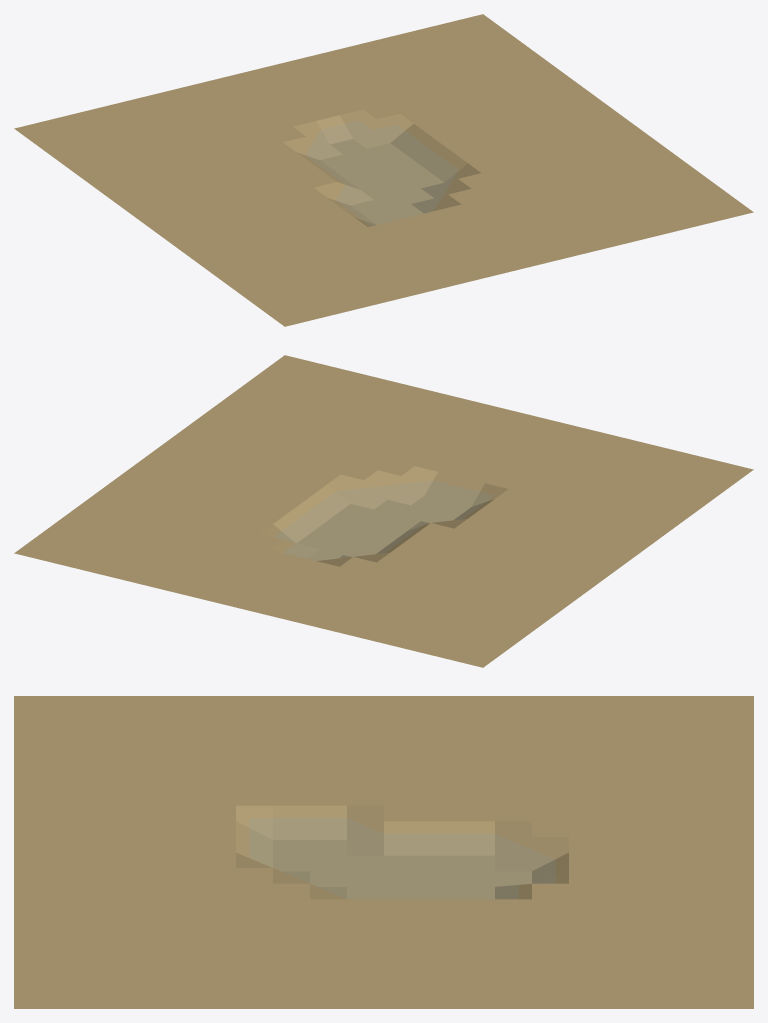
The model's file is Desert Oasis.fbx.
3 views of the same model, one above another, from view 1: azimuth 30°, elevation 25°; view 2: azimuth 150°, elevation 25°; view 3: azimuth 270°, elevation 25° (orthographic). The views are drawn at different scales.
Visible parts, largest first — view 1: DesertOasisSand; view 2: DesertOasisSand; view 3: DesertOasisSand.
Part boxes in pixels (x1=…): DesertOasisSand: x1=14, y1=14, x2=753, y2=326; DesertOasisSand: x1=14, y1=355, x2=753, y2=667; DesertOasisSand: x1=14, y1=696, x2=753, y2=1008.
Size of the model in its own units: 2000 by 56.06 by 2000.
